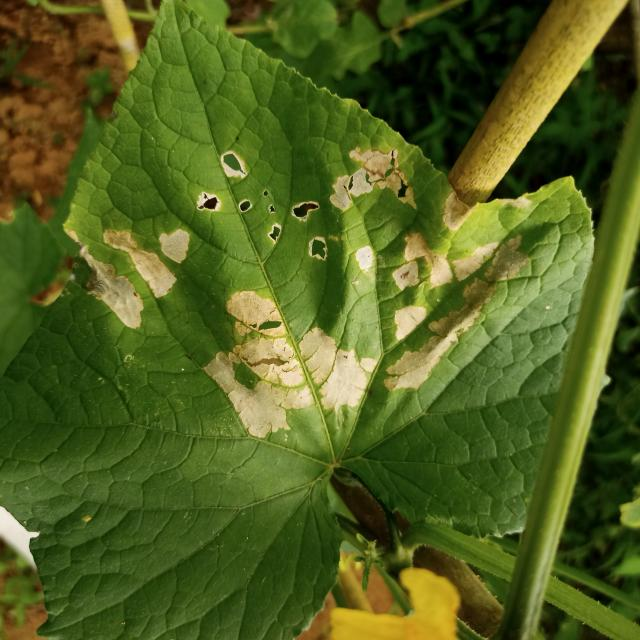disease_cucumber: (67, 148, 529, 438)
